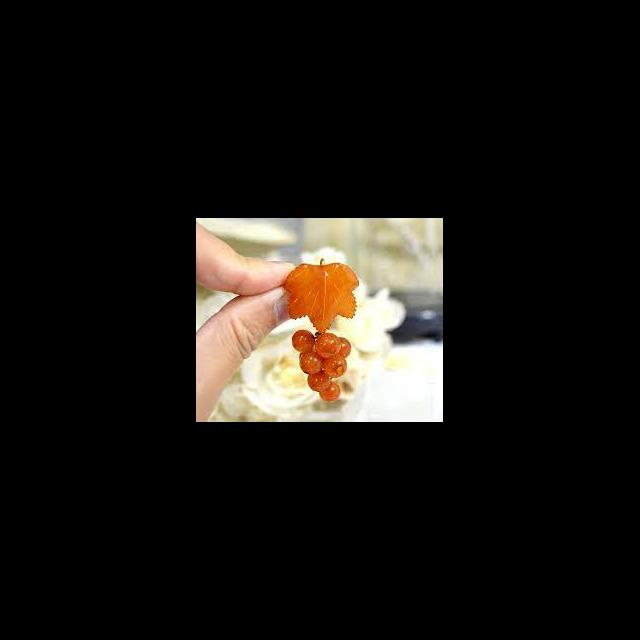grape: (292, 329, 352, 402)
